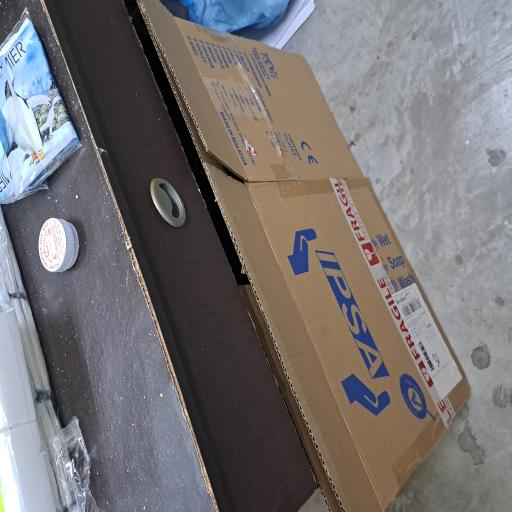cardboard: (0, 180, 384, 512)
